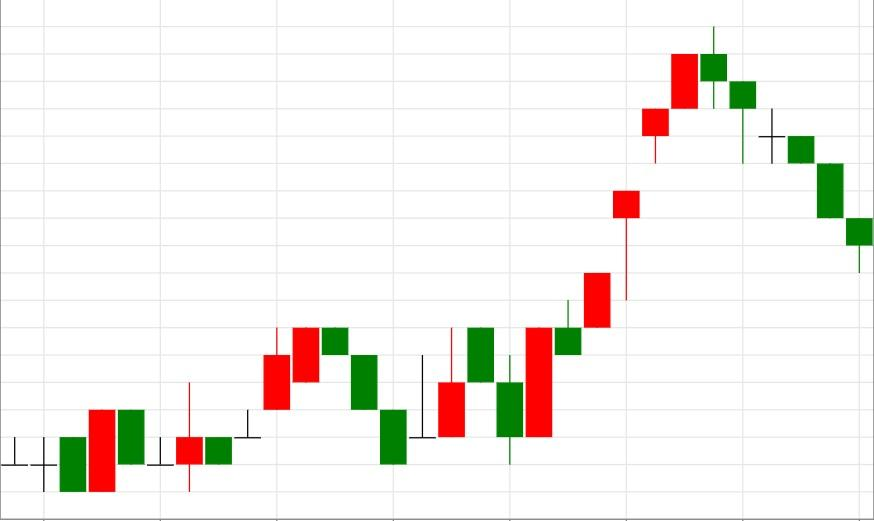three_black_crows_fall: (175, 327, 407, 492)
